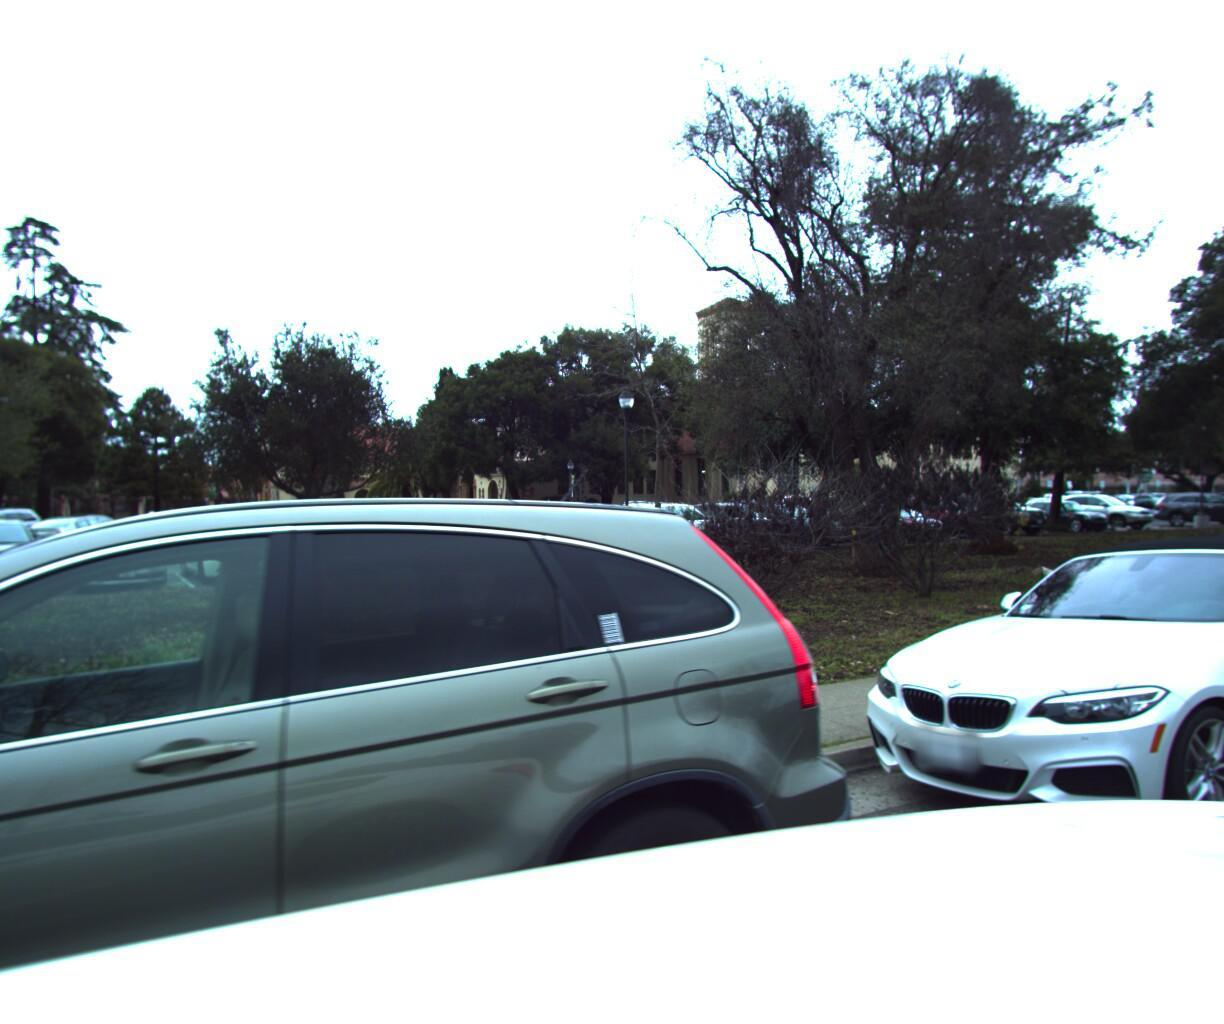car: (0, 491, 900, 1024), (811, 522, 1224, 908)
